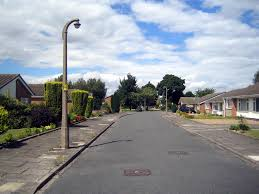light_pole: (59, 21, 80, 151)
